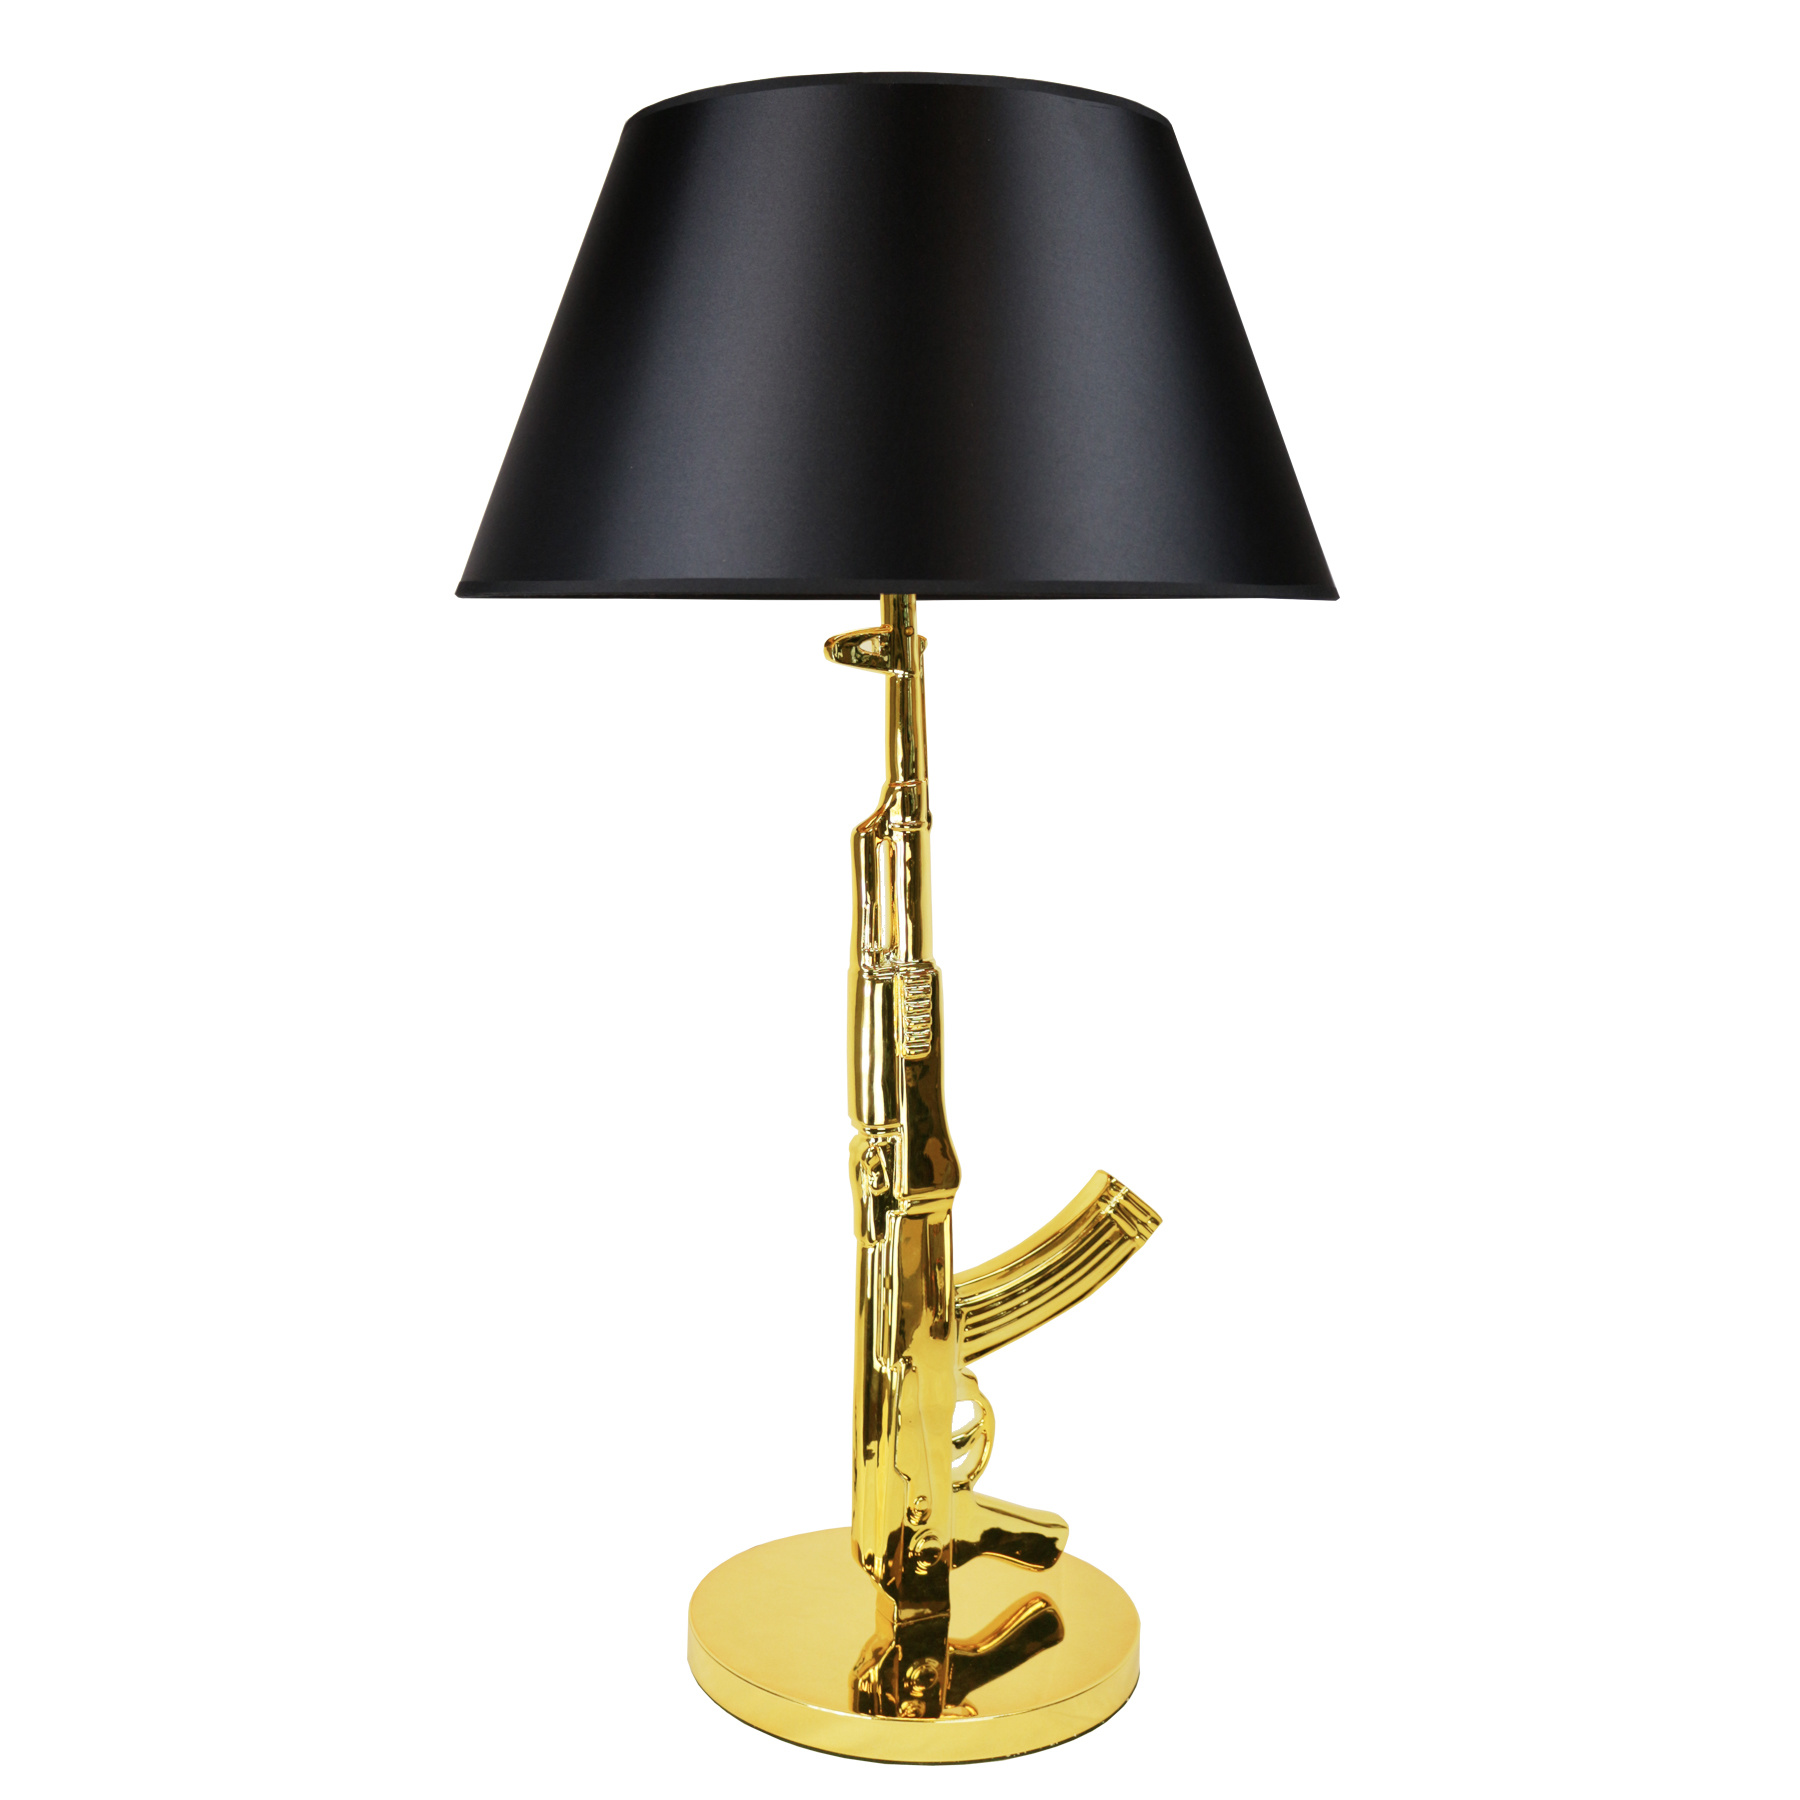lampu: (457, 68, 1342, 1759)
